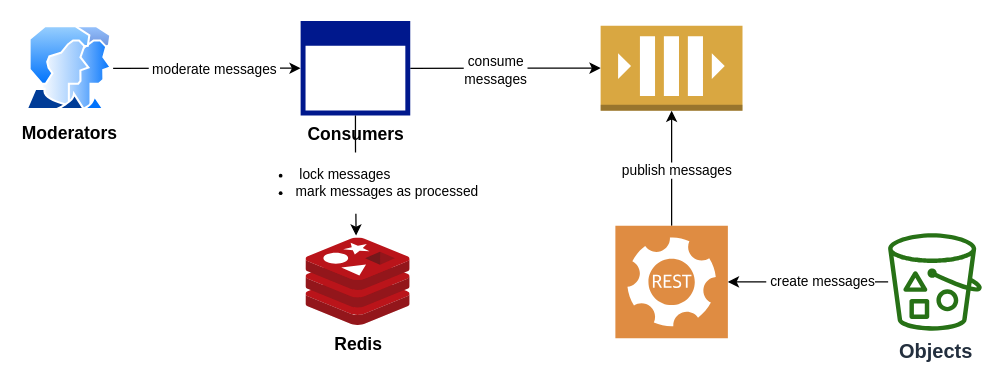
Some shapes in this 1003 by 390 pixel diagram are drawn without their labels. Here are the shapes that lost their labels. From the top down, the box of each, then its label:
(599, 24, 742, 111): RabbitMQ
(615, 225, 727, 338): API
